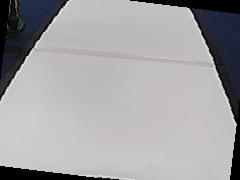corn: (2, 0, 26, 33)
